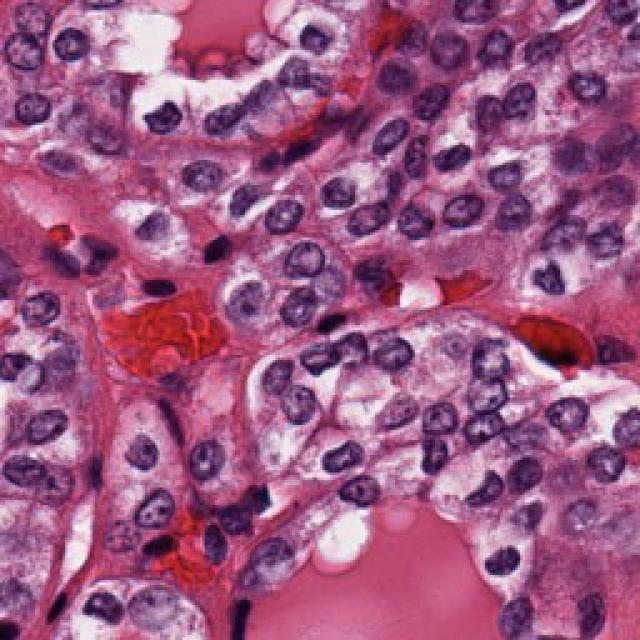abnormal: (273, 233, 370, 312), (244, 368, 339, 444), (205, 258, 287, 342), (478, 182, 560, 255), (2, 275, 90, 338), (0, 78, 72, 150), (113, 475, 185, 547), (0, 21, 72, 91), (0, 407, 97, 457), (527, 377, 590, 448), (406, 385, 471, 452), (372, 323, 433, 392), (457, 368, 527, 428), (365, 103, 428, 167), (322, 475, 395, 530), (430, 180, 485, 253), (472, 541, 532, 576)
